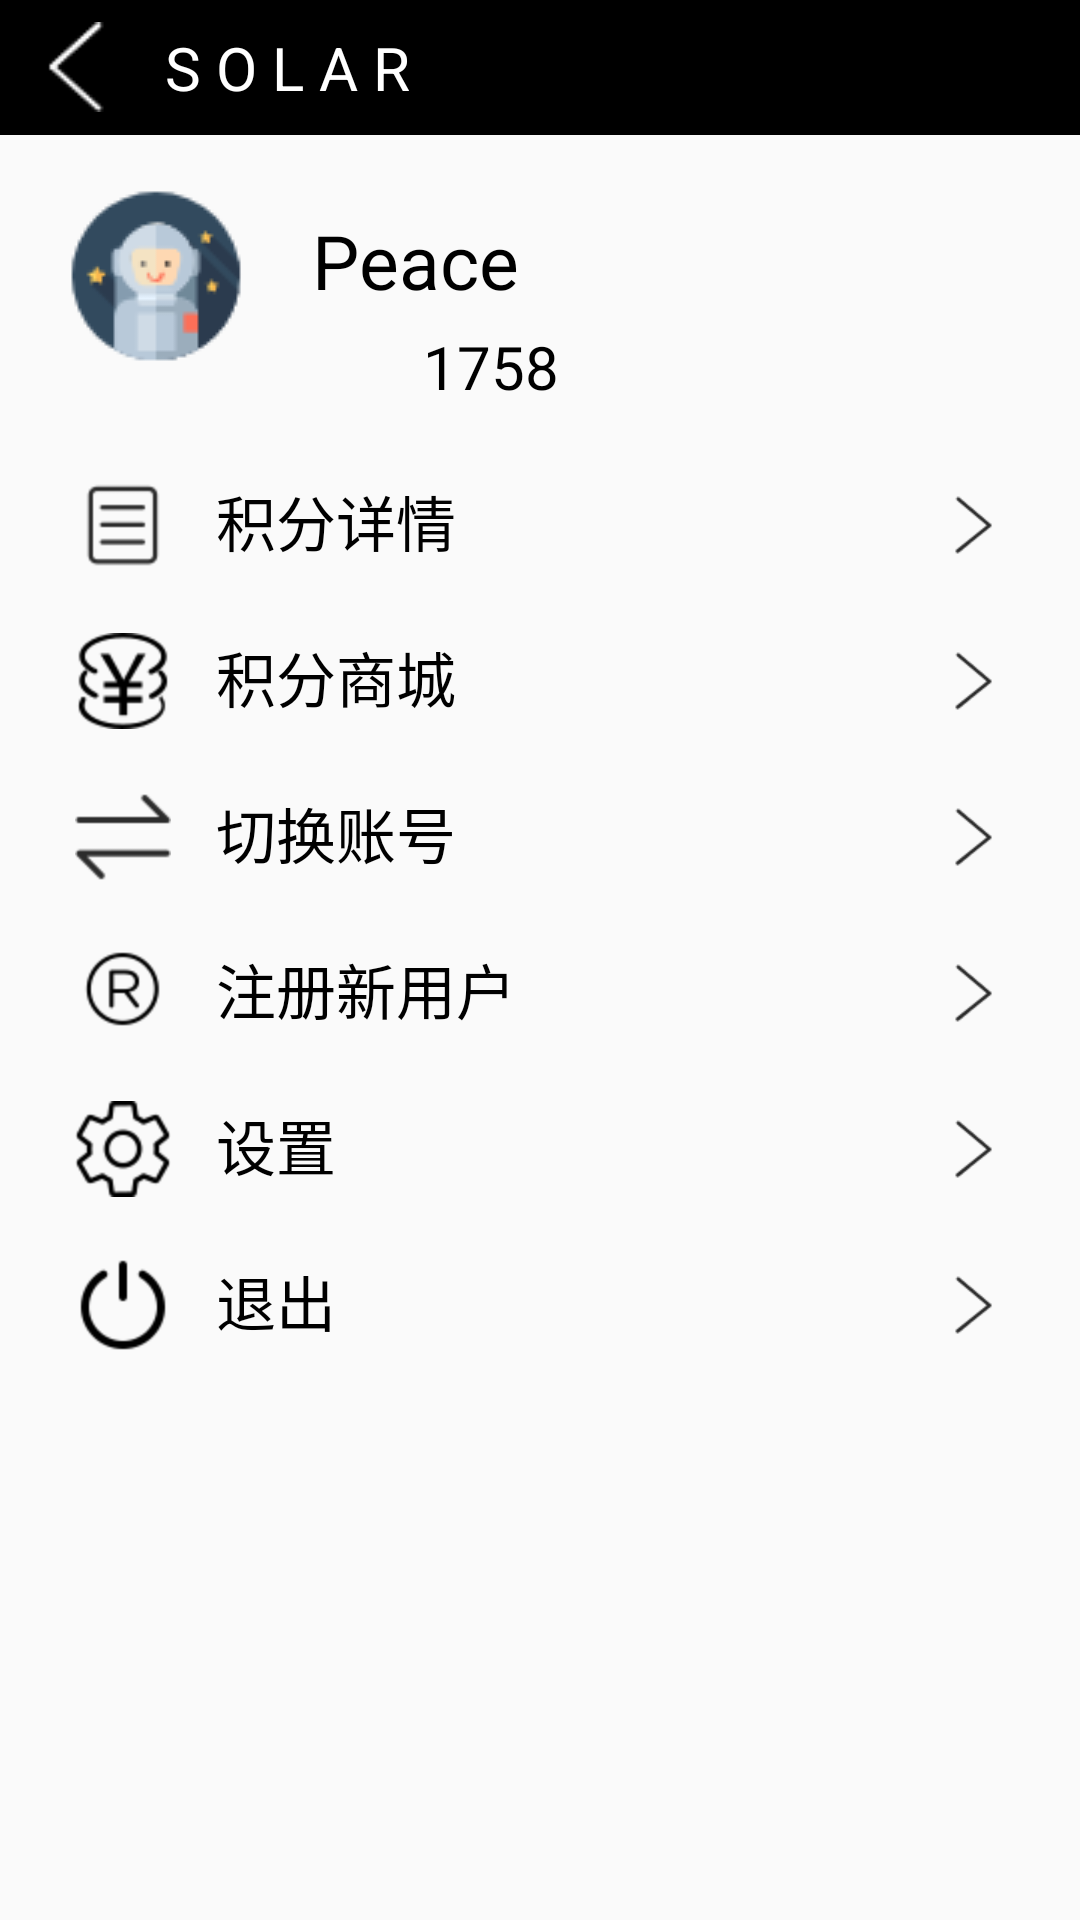

Point at icon controls on the screen. Image size 1080w x 1920h, points as point (x, y).
back right: point (973, 525), point (973, 681), point (973, 837), point (973, 993), point (973, 1149), point (973, 1305)
changeuser: point (123, 837)
checkout: point (123, 1305)
integral details: point (123, 525)
integral mart: point (123, 681)
left: point (76, 67)
setup: point (123, 1149)
zhuce: point (123, 989)
